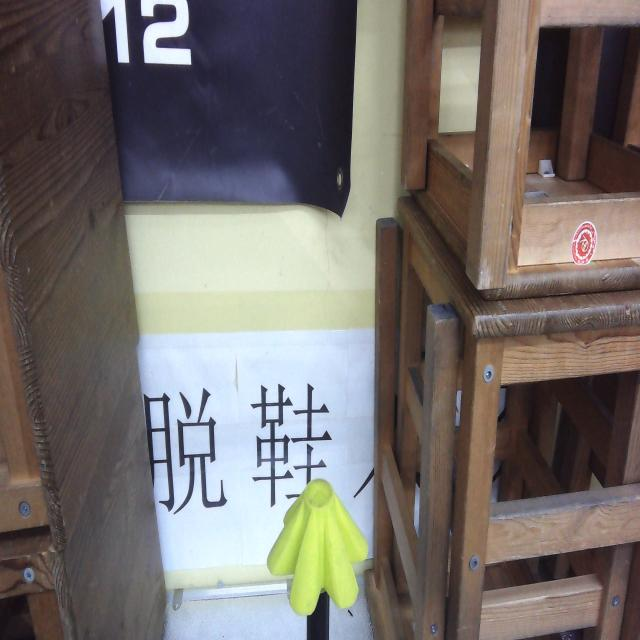Yellow-Stake-Head: (265, 477, 371, 618)
